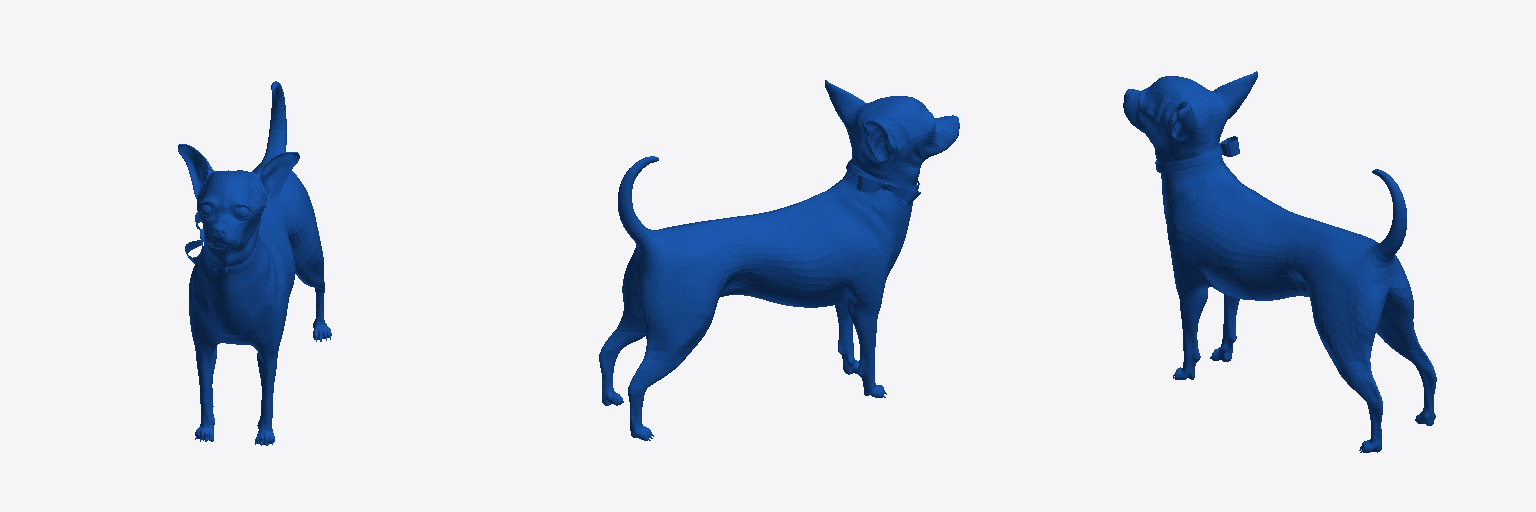
File: dog.obj
The picture shows the model from 3 angles: view 1: azimuth 30°, elevation 25°; view 2: azimuth 150°, elevation 25°; view 3: azimuth 270°, elevation 25°; orthographic projection.
Parts seen in each view (by area): view 1: dog; view 2: dog; view 3: dog.
Part boxes in pixels (left/top/right/bottom): dog: left=178, top=81, right=331, bottom=445; dog: left=599, top=80, right=959, bottom=440; dog: left=1123, top=71, right=1436, bottom=452.
Bounding box in the file's own units: 33.06 × 37.75 × 37.78.